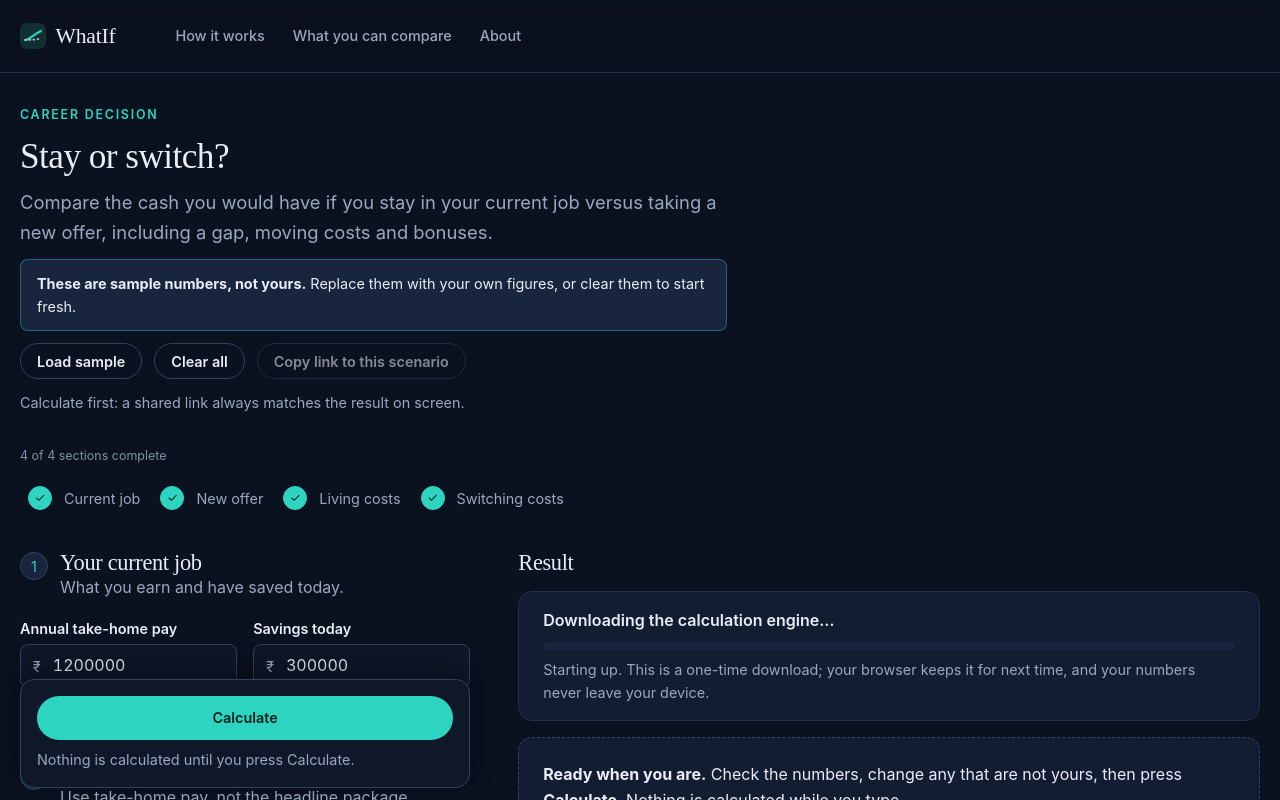
Scenario: decision workspace › loads sensitivity only when the section is opened
Expected: the text "These are sample numbers, not yours." is shown, top-left (37, 275), bottom-right (306, 292)
Click the button "Calculate" at (245, 718), box top-left (37, 696), bottom-right (453, 740)
(page scrolled)
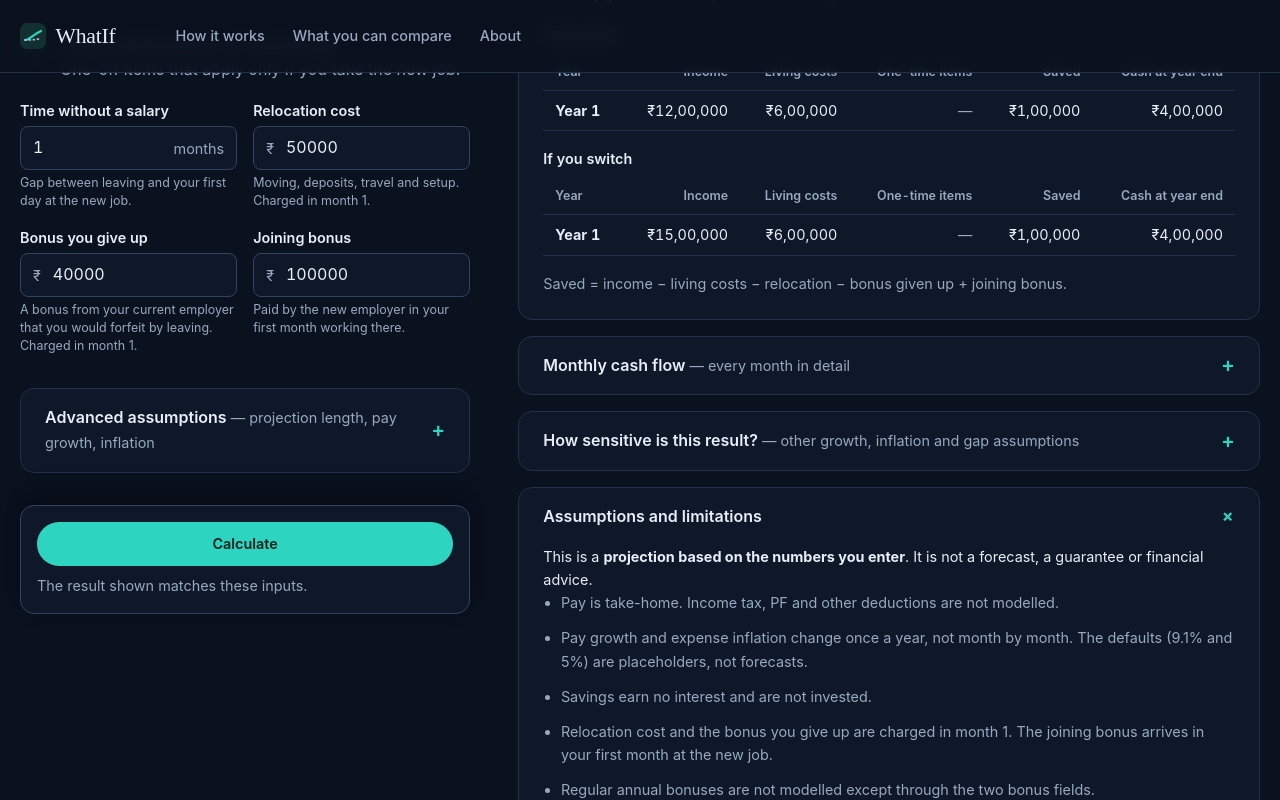
Click the heading "How sensitive is this result" at (811, 440), box top-left (543, 430), bottom-right (1079, 450)
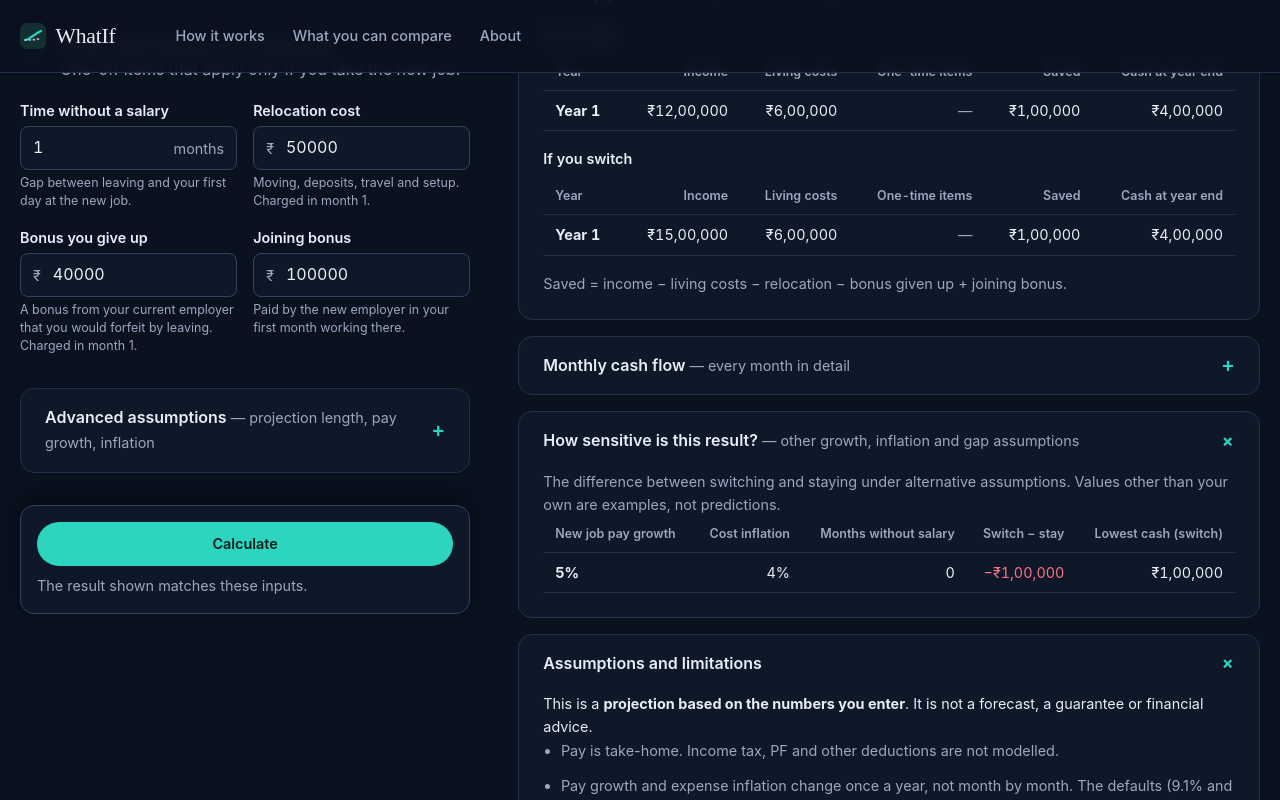
Expected: the element named "Sensitivity analysis" is shown, top-left (543, 516), bottom-right (1235, 593)
